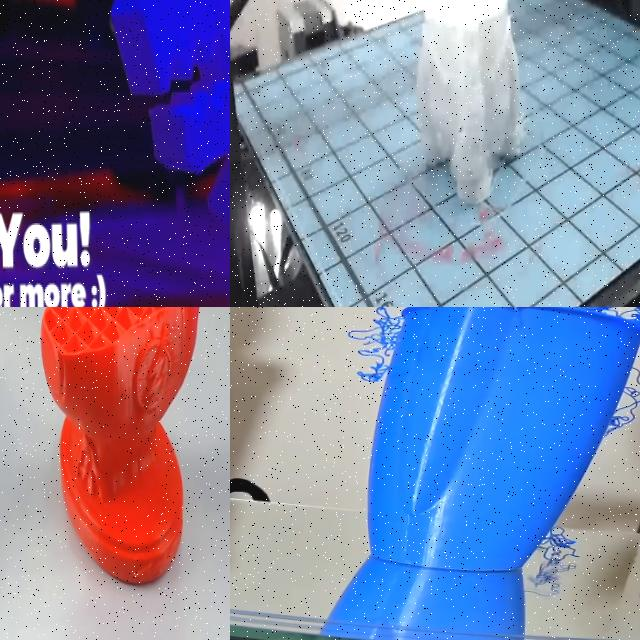spaghetti: (334, 307, 423, 371), (538, 520, 588, 566)
